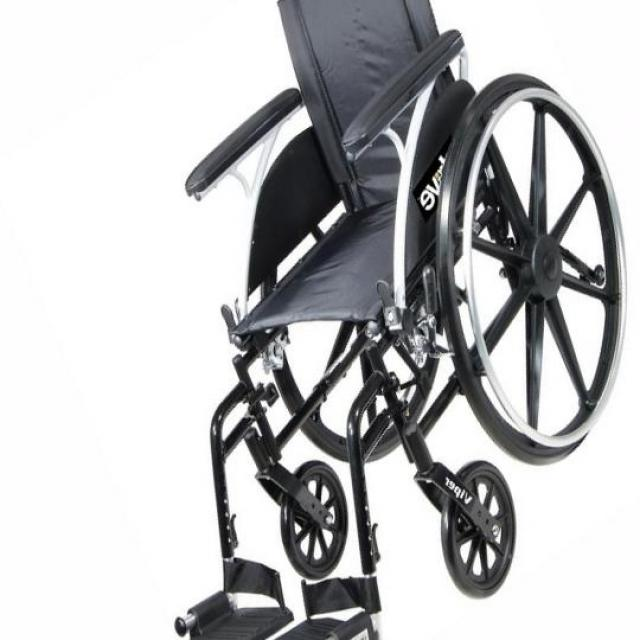wheelchair: (153, 0, 640, 640)
